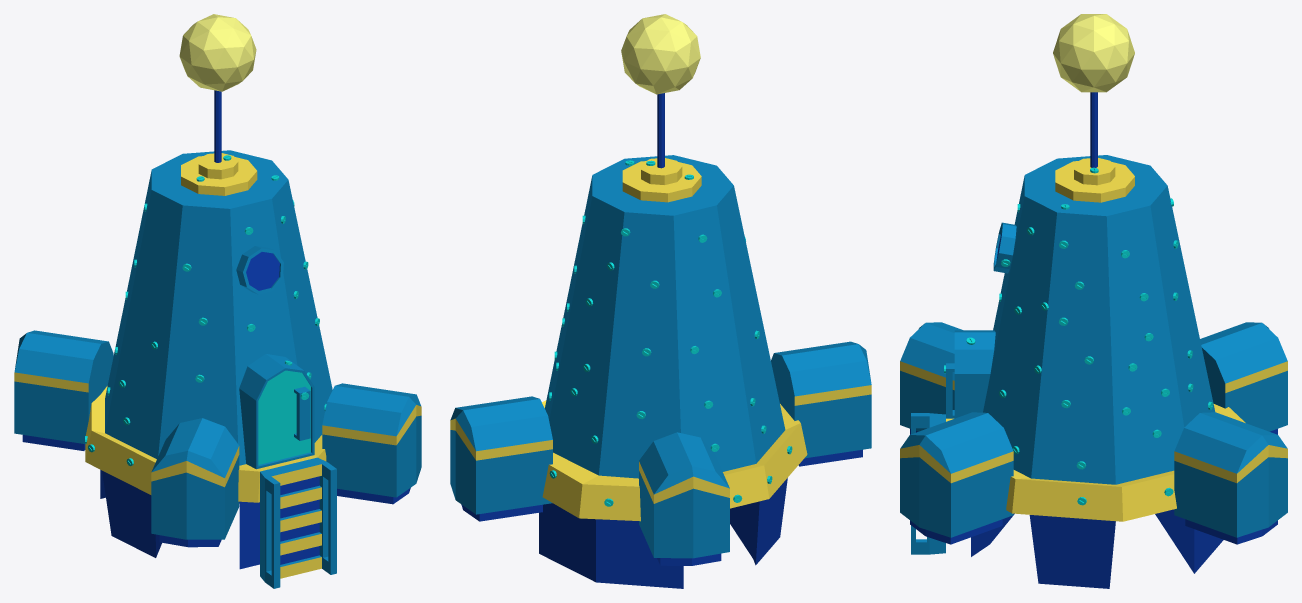
Rendered from La_nave_espacial.fbx.
3 renders of one model, left to right at view 1: azimuth 30°, elevation 25°; view 2: azimuth 150°, elevation 25°; view 3: azimuth 270°, elevation 25°, orthographic. The views are drawn at different scales.
Parts seen in each view (by area): view 1: Nave.002, Cylinder, Nave, Nave.001, Puerta, Icosphere, Antena, Ventana, Tornillo.008, Manilla; view 2: Nave.002, Cylinder, Nave, Icosphere, Antena, Tornillo.008; view 3: Nave.002, Cylinder, Nave, Icosphere, Antena, Puerta, Tornillo.008, Nave.001, Ventana.
Part boxes in pixels (x1,y1,x2,y2): Nave.002: [105, 150, 332, 465]; Cylinder: [14, 330, 421, 547]; Nave: [85, 386, 326, 569]; Nave.001: [260, 457, 336, 588]; Puerta: [239, 354, 314, 469]; Icosphere: [179, 14, 256, 91]; Antena: [181, 90, 257, 195]; Ventana: [236, 246, 283, 294]; Tornillo.008: [85, 155, 326, 466]; Manilla: [294, 386, 310, 440]; Nave.002: [545, 155, 785, 478]; Cylinder: [450, 341, 871, 565]; Nave: [539, 400, 807, 588]; Icosphere: [621, 14, 700, 94]; Antena: [622, 93, 701, 202]; Tornillo.008: [549, 160, 792, 506]; Nave.002: [983, 155, 1215, 484]; Cylinder: [900, 322, 1287, 544]; Nave: [946, 404, 1245, 588]; Icosphere: [1053, 14, 1134, 92]; Antena: [1055, 92, 1134, 202]; Puerta: [954, 330, 995, 418]; Tornillo.008: [944, 167, 1213, 505]; Nave.001: [911, 413, 945, 554]; Ventana: [993, 222, 1016, 273].
Size of the model in its own units: 793 by 1401 by 942.
